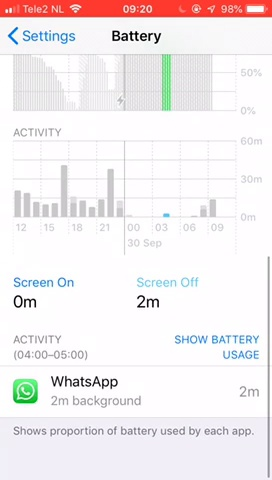activity: (12, 330, 121, 362)
app: (9, 370, 263, 407)
